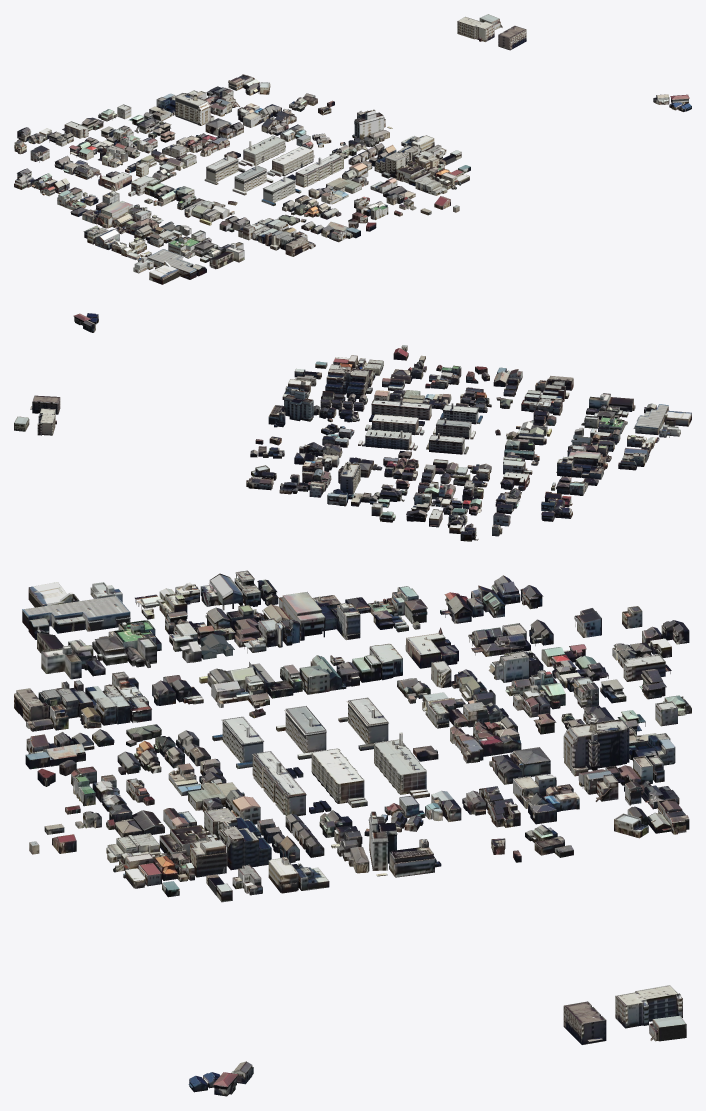
File: station-2-1-packed.glb
The picture shows the model from 3 angles, top to bottom: view 1: azimuth 30°, elevation 25°; view 2: azimuth 150°, elevation 25°; view 3: azimuth 270°, elevation 25°; orthographic projection. The views are drawn at different scales.
Bounding box in the file's own units: 620 × 27.3 × 349.
21 materials, 20 textured.
